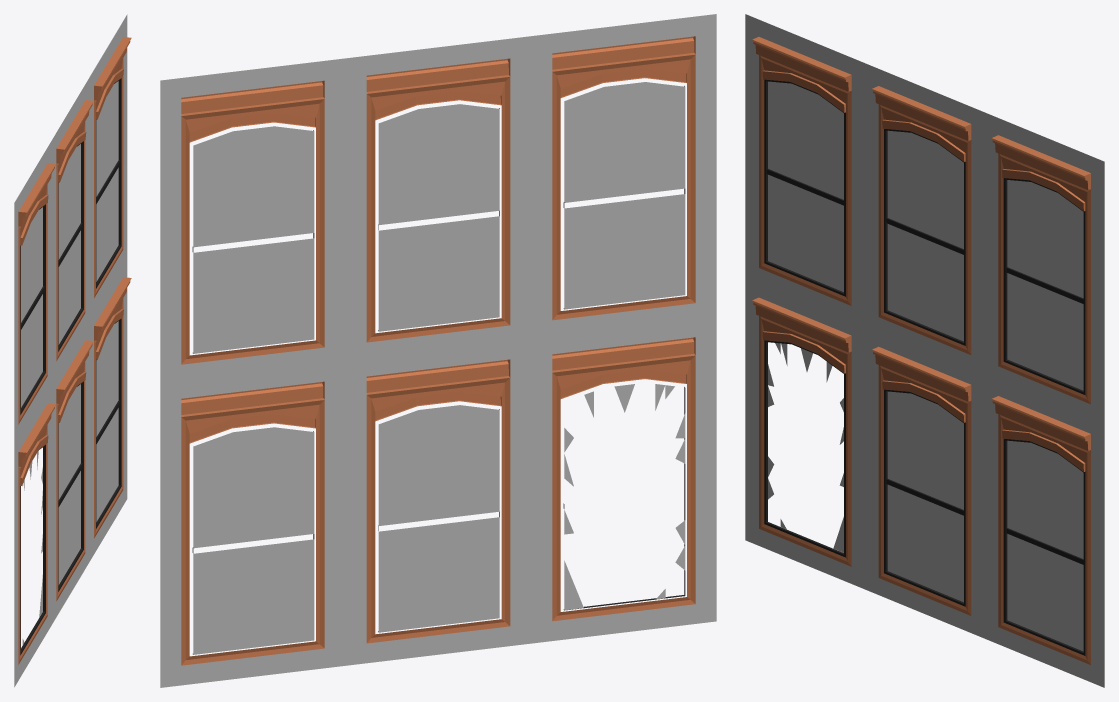
File: building.obj
3 views of the same model, side by side, from view 1: azimuth 30°, elevation 25°; view 2: azimuth 150°, elevation 25°; view 3: azimuth 270°, elevation 25° (orthographic). The views are drawn at different scales.
Parts seen in each view (by area): view 1: Plane; view 2: Plane; view 3: Plane.
Boxes of the visible parts, bbox=[...] form: Plane: bbox=[14, 14, 131, 687]; Plane: bbox=[160, 14, 716, 687]; Plane: bbox=[745, 14, 1104, 687].
Size of the model in its own units: 4.31 by 7.17 by 4.44.
